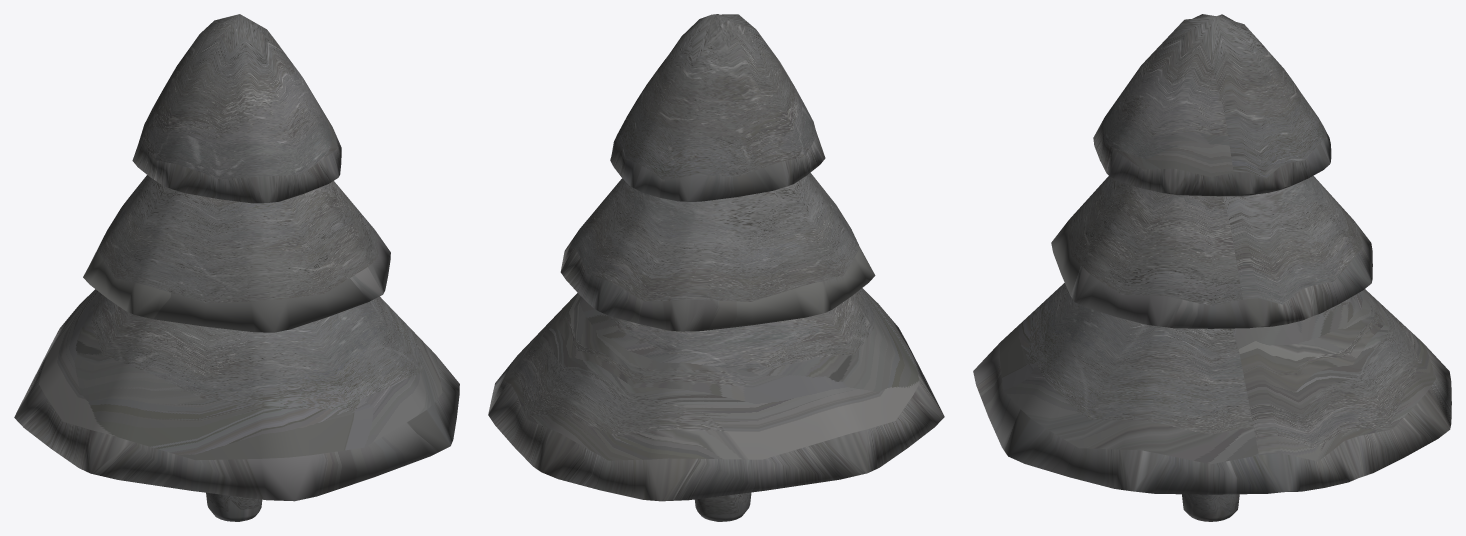
File: PineTree.fbx
The picture shows the model from 3 angles, left to right: view 1: azimuth 30°, elevation 25°; view 2: azimuth 150°, elevation 25°; view 3: azimuth 270°, elevation 25°; orthographic projection.
Parts seen in each view (by area): view 1: polySurface1, polySurface3, polySurface4, polySurface2; view 2: polySurface1, polySurface3, polySurface4, polySurface2; view 3: polySurface1, polySurface3, polySurface4, polySurface2.
Part boxes in pixels (bbox=[...]): polySurface1: bbox=[14, 289, 459, 501]; polySurface3: bbox=[83, 175, 390, 332]; polySurface4: bbox=[132, 14, 341, 203]; polySurface2: bbox=[206, 492, 262, 521]; polySurface1: bbox=[488, 288, 944, 501]; polySurface3: bbox=[560, 173, 875, 331]; polySurface4: bbox=[610, 14, 825, 201]; polySurface2: bbox=[695, 492, 751, 521]; polySurface1: bbox=[973, 283, 1451, 494]; polySurface3: bbox=[1051, 176, 1372, 328]; polySurface4: bbox=[1093, 14, 1331, 196]; polySurface2: bbox=[1182, 494, 1239, 521].
Bounding box in the file's own units: 4.09 × 5.22 × 4.52.
